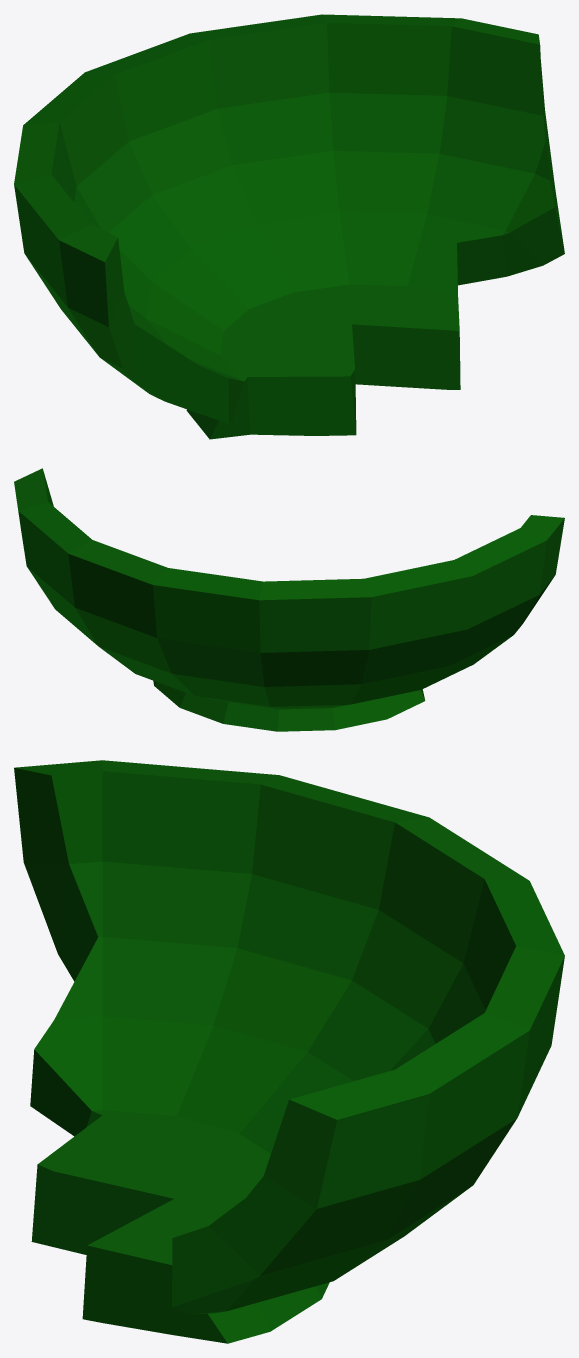
File: LudumDareBowlBrokenS2.fbx
3 renders of one model, top to bottom at view 1: azimuth 30°, elevation 25°; view 2: azimuth 150°, elevation 25°; view 3: azimuth 270°, elevation 25°, orthographic. The views are drawn at different scales.
Visible parts, largest first — view 1: Bowl; view 2: Bowl; view 3: Bowl.
Boxes of the visible parts, x1=… form: Bowl: x1=14, y1=14, x2=564, y2=439; Bowl: x1=14, y1=468, x2=564, y2=731; Bowl: x1=14, y1=760, x2=564, y2=1343.
Bounding box in the file's own units: 22.27 × 9.27 × 14.41.
